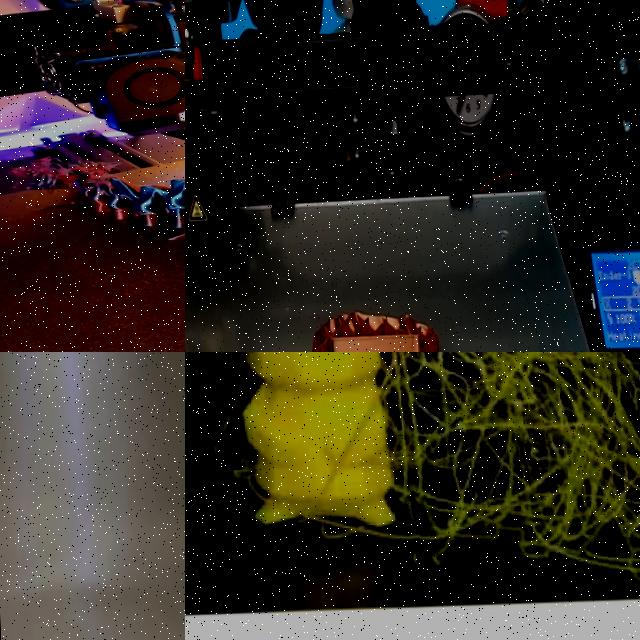spaghetti: (384, 352, 640, 604), (8, 156, 68, 190)
